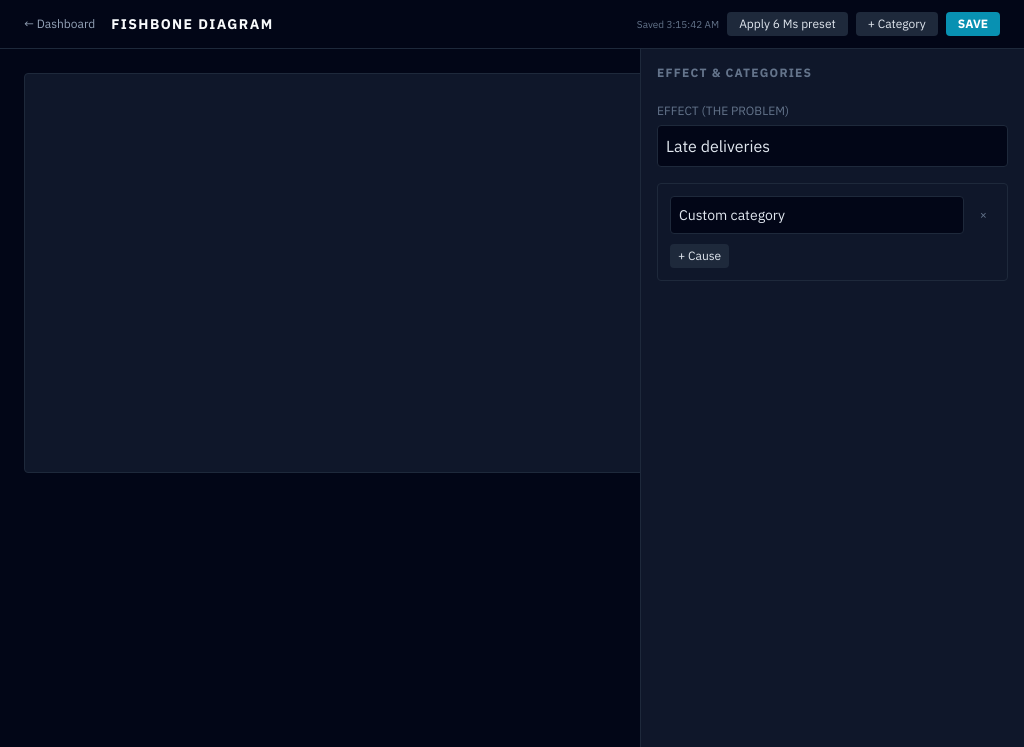
Test: FishboneEditor "Apply 6 Ms preset" › replaces categories with the preset when the dialog is confirmed
Click the button "Apply 6 Ms preset" at (787, 24), box [727,12,848,36]
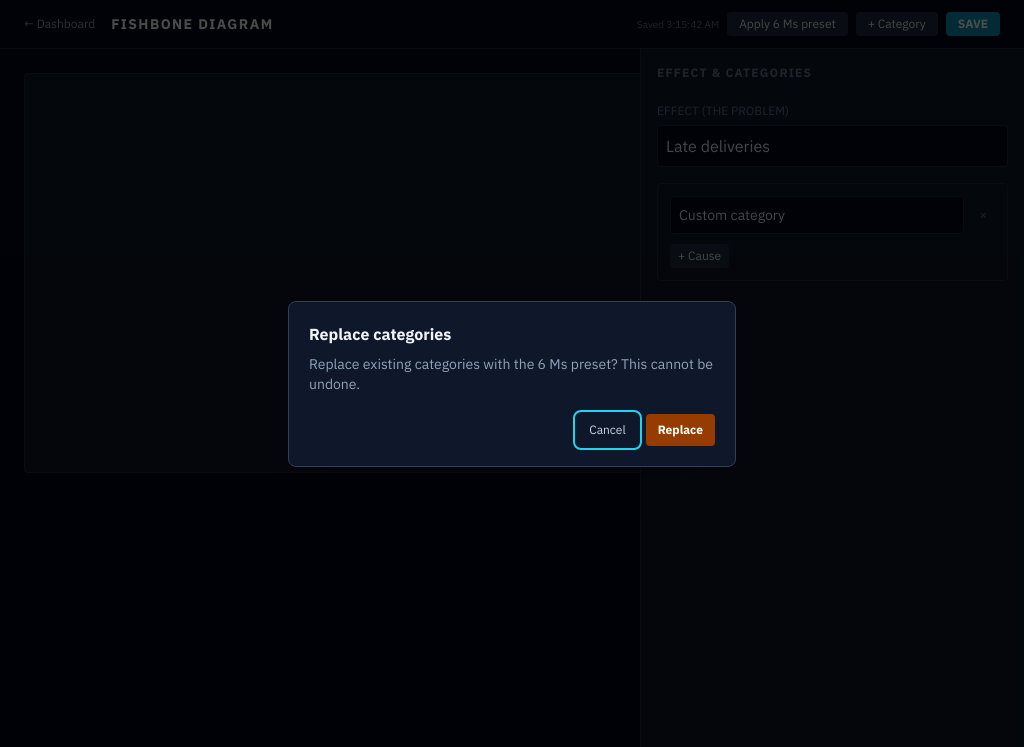
Click the button "Replace" at (680, 430), box [646,414,715,446]
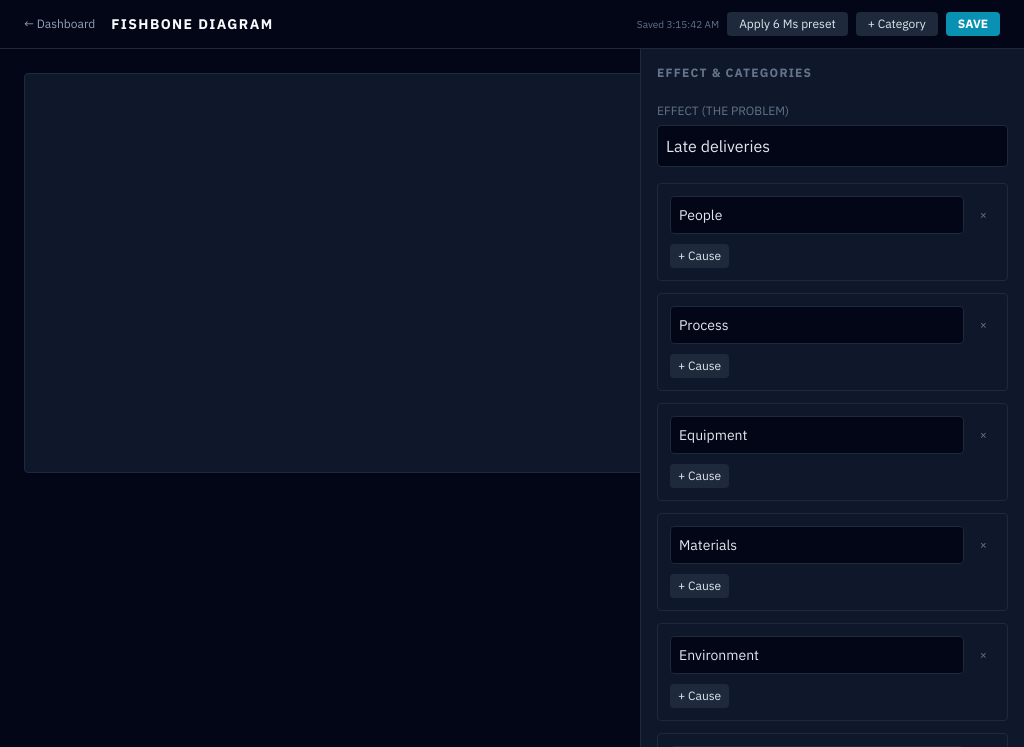
expect the dialog is gone: met
